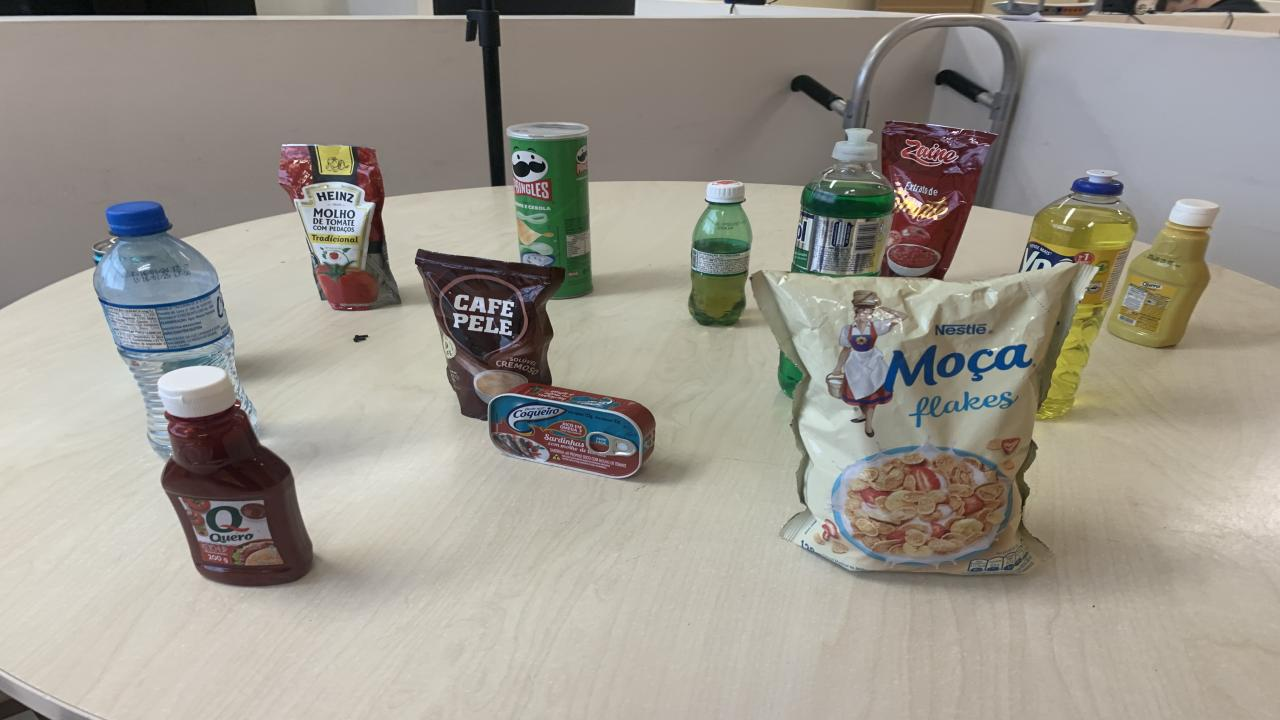Coffee-Pantry_Items: (415, 249, 565, 420)
Detergent-Cleanup_Items: (1020, 169, 1138, 420), (790, 128, 895, 276), (778, 354, 800, 394)
Flakes-Snacks: (752, 262, 1092, 576)
Guarana-Drinks: (688, 182, 752, 326)
Ketchup-Pantry_Items: (158, 366, 312, 585)
Mustard-Pantry_Items: (1108, 199, 1220, 347)
Pringles-Snacks: (508, 122, 592, 298)
Tomato_Sauce-Pantry_Items: (278, 144, 400, 311), (880, 122, 995, 279)
Tuna_Can-Pantry_Items: (488, 382, 655, 478)
Water_Bottle-Drinks: (92, 202, 258, 458)
